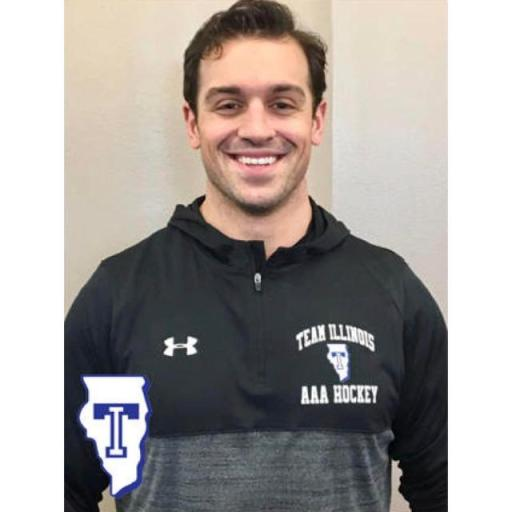Under Armour: (160, 332, 202, 358)
